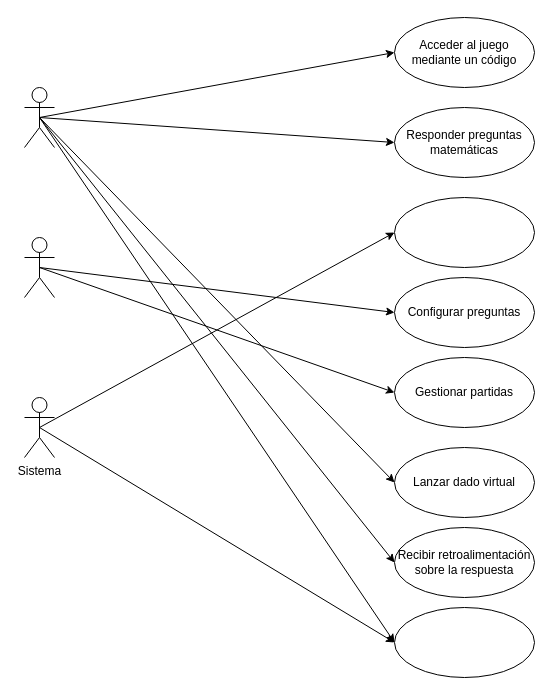
Some shapes in this 552 by 695 pixel diagram are drawn without their labels. The shapes that lost their labels are listed below. From the top down, each one's box as (x1, y1, x2, y2) in pixels, then its label:
(24, 86, 54, 148): Alumno
(394, 196, 534, 268): Avanzar o retroceder en la carrera
(24, 236, 54, 298): Profesor
(394, 606, 534, 678): Interactuar con casillas especiales
